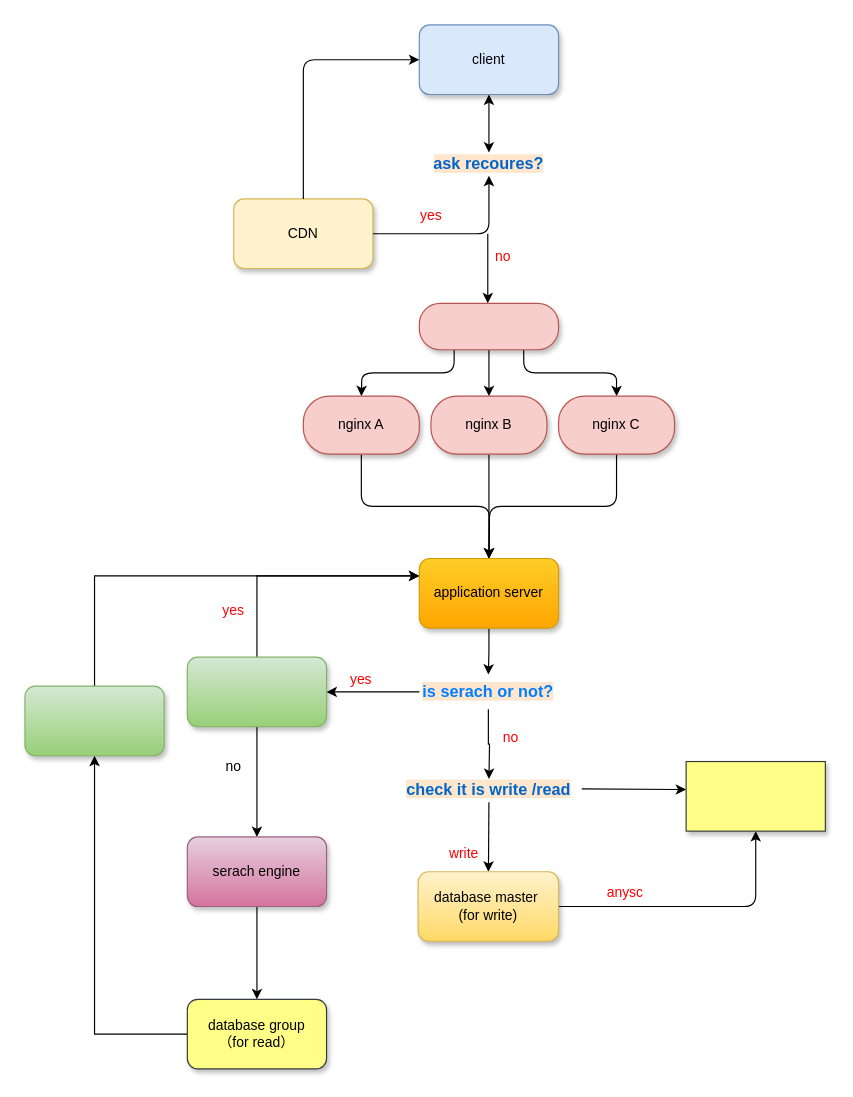
Image size: 853x1097. Some labels were removed from this diagram. Here are the shapes that lost their labels. From the top down, the centre of each, then its label:
point 490,328: lvs
point 258,693: redis check cahce
point 95,722: redis cache server
point 756,797: database group (for read)
